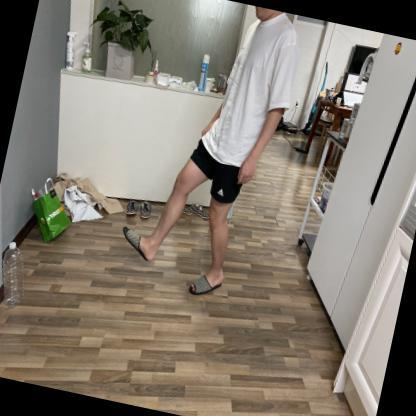no_safety-shoe: (181, 257, 230, 306), (113, 225, 166, 268)
